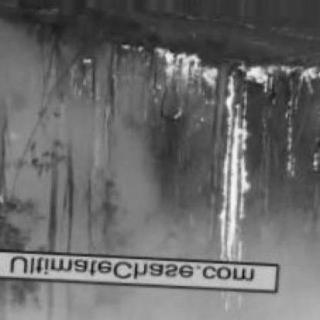Fire: (153, 53, 317, 119), (212, 62, 255, 310)
